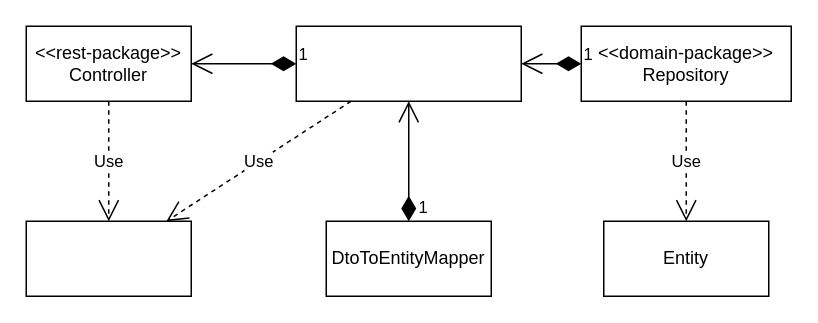
The diagram is 818 pixels wide and 323 high, and some of its shapes have lost their labels. The centre of each missing label's shape, as x and y in pixels:
"<<service-package>> Service" belongs at point (408, 63).
"DTO" belongs at point (108, 258).
